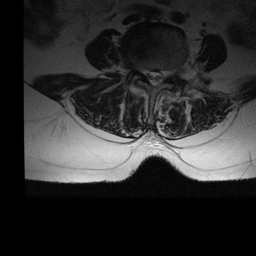CCS_normal: (150, 60, 158, 93)
LFS_normal: (165, 58, 174, 83)
LLS_normal: (158, 60, 165, 90)
RFS_stenosis: (137, 56, 144, 79)
RLS_normal: (144, 61, 150, 86)
